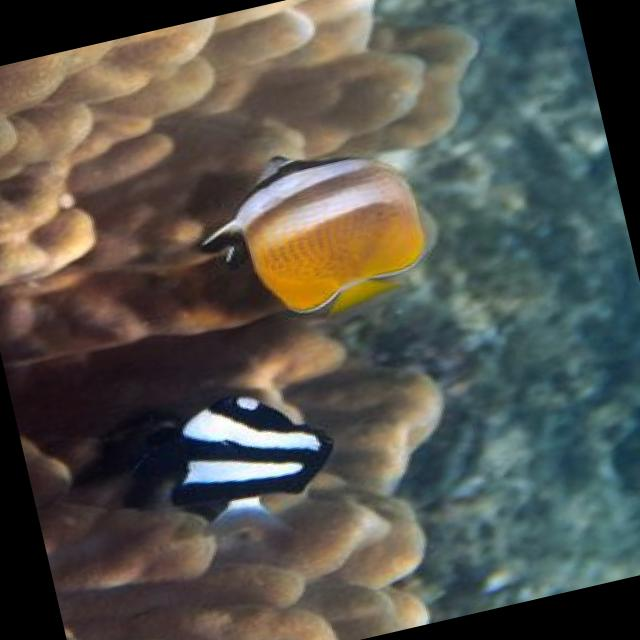ThreeStripedDamselfish: (171, 388, 329, 534)
